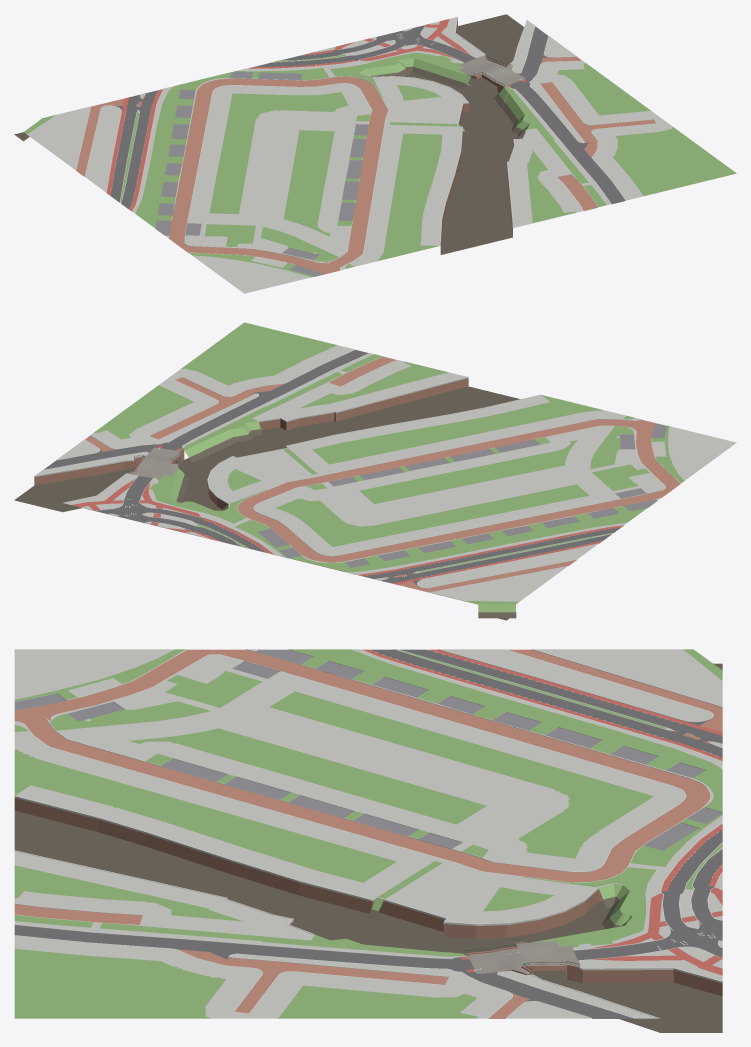
File: ground_12_5.glb
The picture shows the model from 3 angles, top to bottom: view 1: azimuth 30°, elevation 25°; view 2: azimuth 150°, elevation 25°; view 3: azimuth 270°, elevation 25°; orthographic projection. The views are drawn at different scales.
Visible parts, largest first — view 1: ground_12_5; view 2: ground_12_5; view 3: ground_12_5.
Boxes of the visible parts, <box> form: ground_12_5: <box>14,14,736,293</box>; ground_12_5: <box>14,322,736,620</box>; ground_12_5: <box>14,649,722,1032</box>.
Bounding box in the file's own units: 202 × 5.2 × 165.
